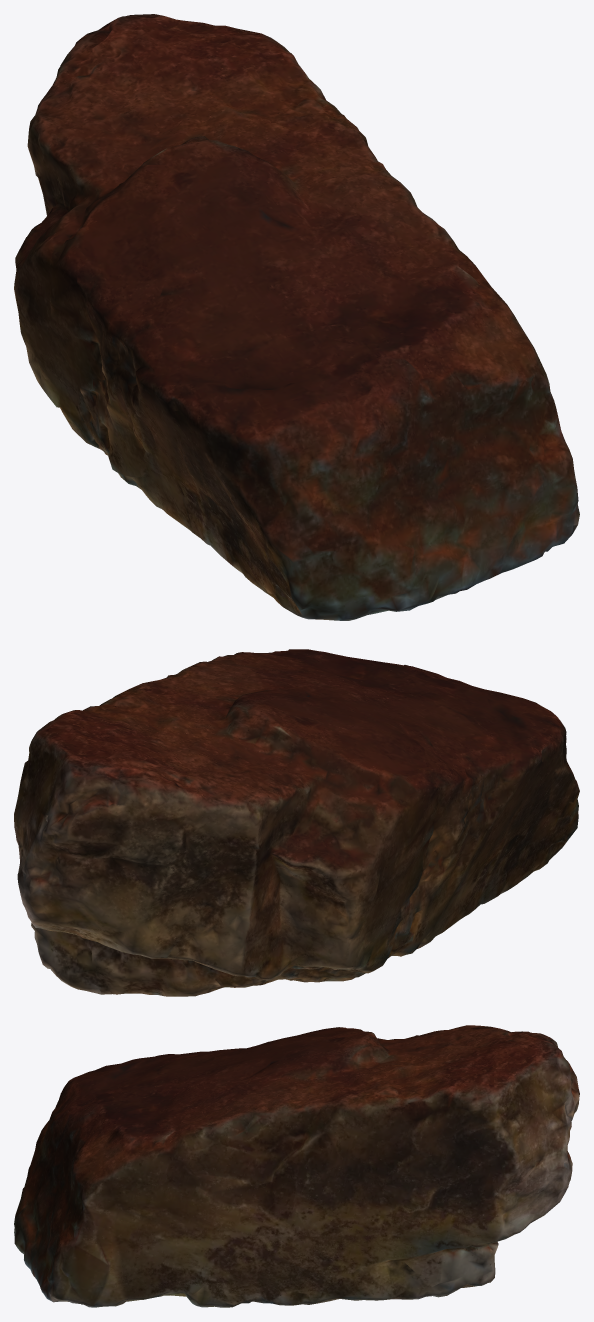
The model's file is rock_07.glb.
3 renders of one model, top to bottom at view 1: azimuth 30°, elevation 25°; view 2: azimuth 150°, elevation 25°; view 3: azimuth 270°, elevation 25°, orthographic. The views are drawn at different scales.
Visible parts, largest first — view 1: rock_07; view 2: rock_07; view 3: rock_07.
Boxes of the visible parts, x1,y1,x2,y2 form: rock_07: (14,14,579,620); rock_07: (14,649,579,996); rock_07: (14,1025,579,1307).
Bounding box in the file's own units: 0.1689 × 0.1437 × 0.3203.
1 material, 1 textured.
